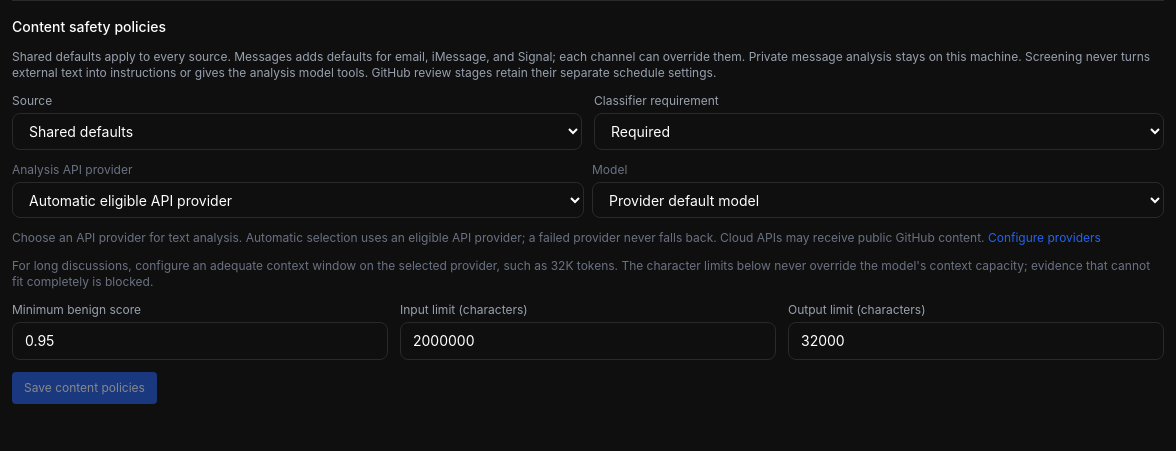
Scenario: content safety policy configuration › saves a private source override while preserving other policies and excluding cloud providers
Select "Email" in the dropdown labelled "Source": (297, 132) x1=12 y1=113 x2=582 y2=150
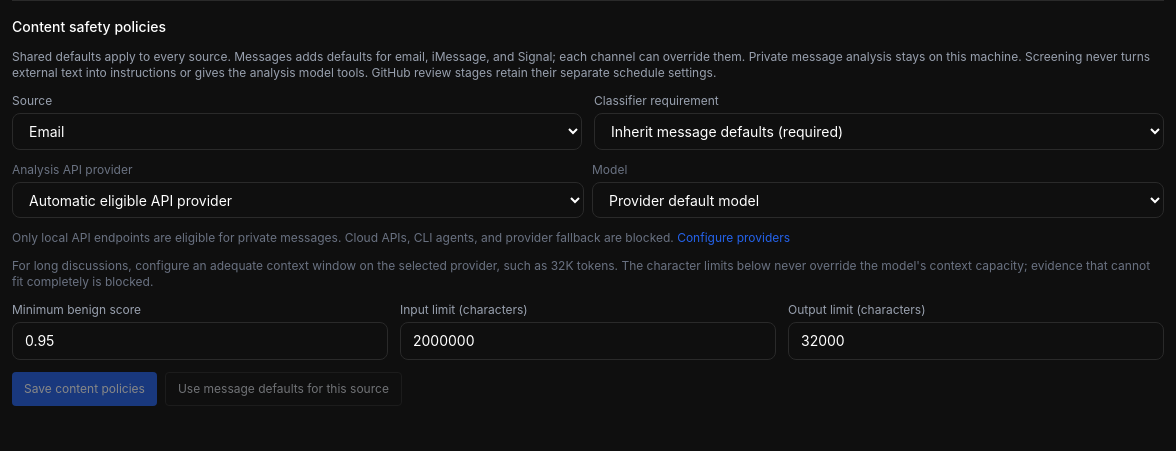
Select "Local example" in the dropdown labelled "Analysis API provider": (298, 200) x1=12 y1=182 x2=584 y2=218
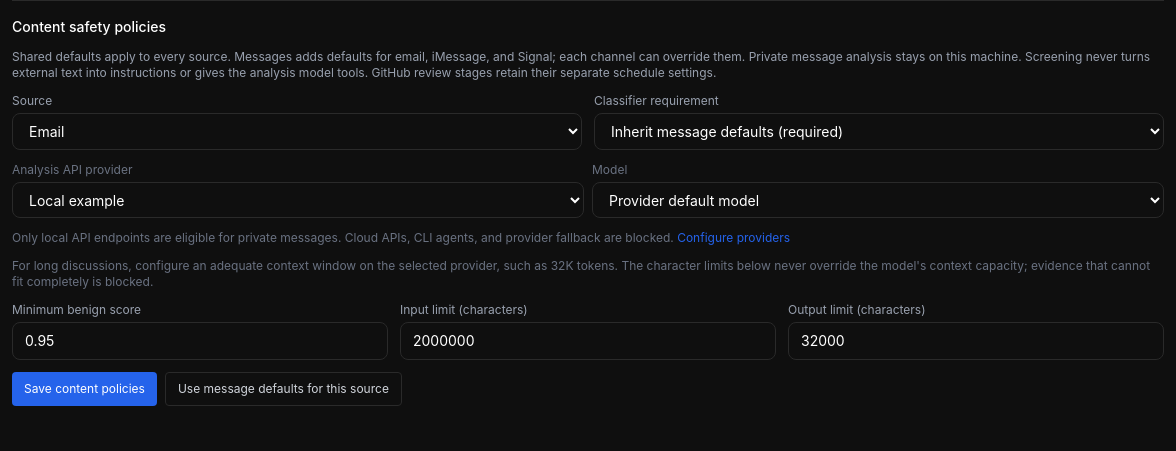
Select "Optional only when never installed" in the dropdown labelled "Classifier requirement": (879, 132) x1=594 y1=113 x2=1164 y2=150
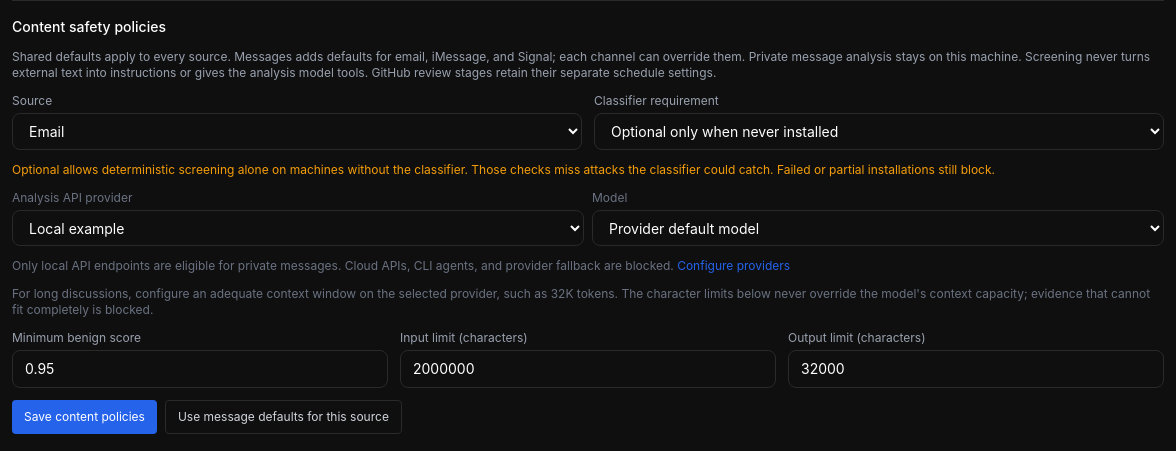
Now the text "Those checks miss attacks" is shown, box x1=12 y1=162 x2=995 y2=177
Click the button "Save content policies": (84, 417) x1=12 y1=400 x2=157 y2=434
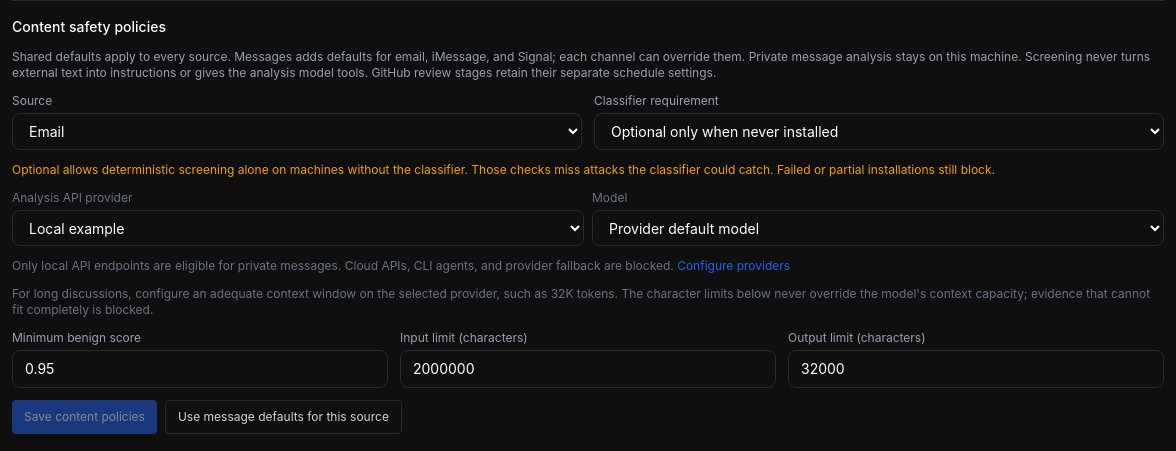
Now the button "Save content policies" is disabled, box x1=12 y1=400 x2=157 y2=434
